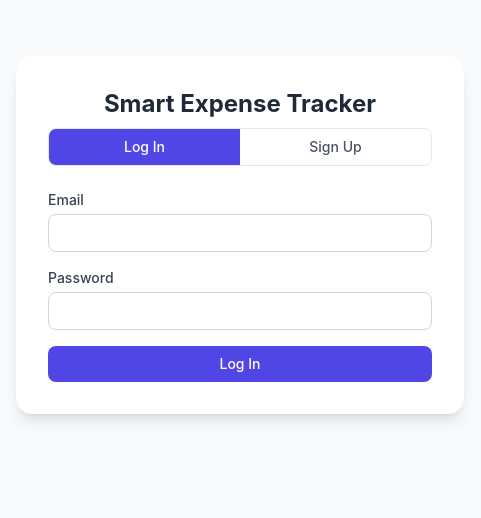
AuthPage — Register mode › shows first_name, last_name, email, and password fields in register mode
The width and height of the screenshot is (481, 518).
Click the button "Sign Up". click: coordinates (336, 147)
box: [240,129,431,165]
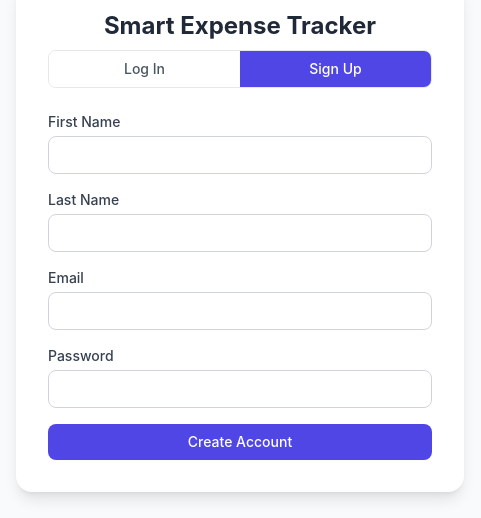
Expected: the field labelled "Last Name" is shown, [48,214,432,252]
Expected: the field labelled "First Name" is shown, [48,136,432,174]
